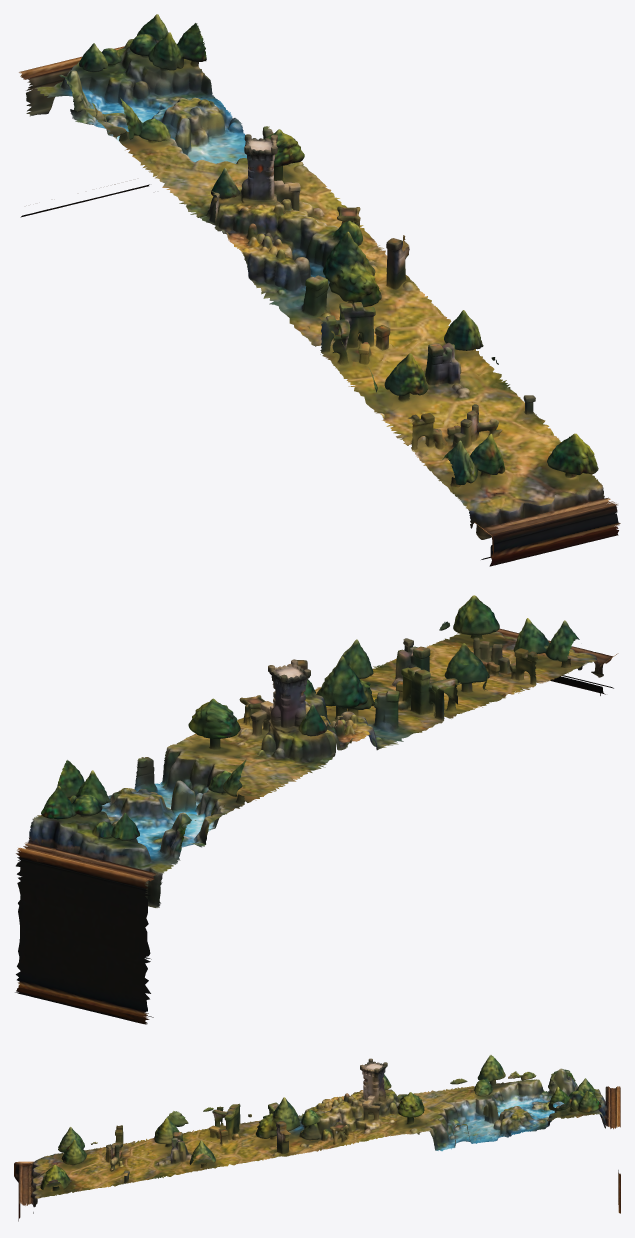
File: ravenwood_section_01.glb
The picture shows the model from 3 angles, top to bottom: view 1: azimuth 30°, elevation 25°; view 2: azimuth 150°, elevation 25°; view 3: azimuth 270°, elevation 25°; orthographic projection. The views are drawn at different scales.
Visible parts, largest first — view 1: RavenwoodSection01; view 2: RavenwoodSection01; view 3: RavenwoodSection01.
Boxes of the visible parts, <box> form: RavenwoodSection01: <box>19,14,620,566</box>; RavenwoodSection01: <box>15,595,618,1024</box>; RavenwoodSection01: <box>14,1055,620,1221</box>.
Bounding box in the file's own units: 0.1621 × 0.2349 × 0.9598.
1 material, 1 textured.
